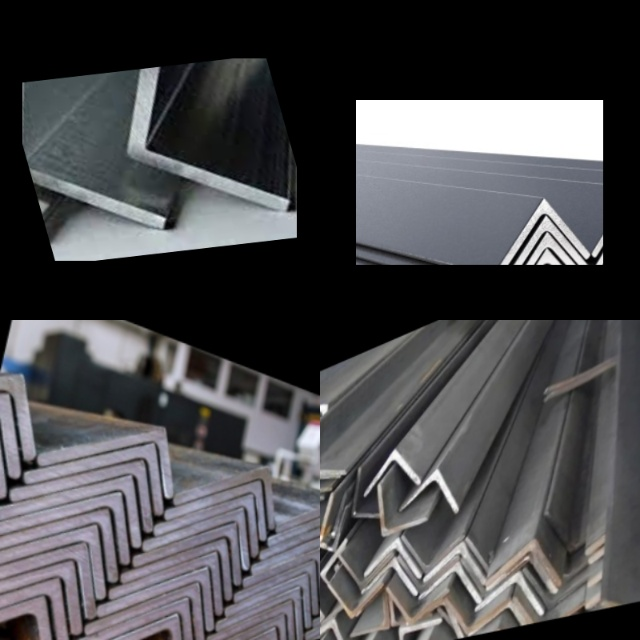Angle: (118, 58, 281, 218), (22, 72, 160, 235), (0, 453, 148, 549), (13, 435, 162, 529), (27, 422, 169, 512), (0, 474, 136, 567), (43, 401, 177, 493), (0, 491, 124, 586), (0, 508, 112, 608), (102, 552, 220, 639), (111, 536, 229, 622), (0, 529, 101, 626), (173, 445, 283, 527), (126, 526, 237, 604), (88, 572, 208, 640), (146, 496, 256, 570), (0, 547, 87, 640), (137, 512, 244, 587), (170, 463, 270, 540), (159, 482, 262, 556), (80, 585, 200, 640), (228, 564, 317, 634), (218, 578, 309, 640), (237, 553, 320, 618), (498, 206, 586, 265), (0, 569, 72, 640), (66, 599, 190, 640), (486, 536, 563, 600), (244, 540, 320, 603), (522, 553, 602, 611), (210, 592, 300, 640), (254, 527, 320, 590), (543, 498, 611, 559), (487, 549, 558, 605), (475, 571, 544, 627), (500, 224, 588, 265), (262, 515, 320, 577), (0, 378, 45, 457), (398, 468, 459, 525), (424, 541, 487, 594), (419, 560, 481, 613), (202, 604, 293, 640), (377, 472, 428, 536), (364, 536, 424, 590), (386, 574, 448, 626), (268, 501, 320, 562), (445, 586, 508, 636), (0, 590, 60, 640), (513, 586, 584, 627), (398, 545, 457, 594), (327, 571, 381, 622), (338, 542, 392, 592), (367, 449, 421, 497), (361, 559, 415, 606), (190, 615, 285, 640), (281, 489, 320, 548), (502, 240, 589, 265), (604, 551, 640, 609), (320, 414, 347, 482), (0, 402, 26, 468), (352, 466, 380, 523), (352, 595, 387, 635), (320, 439, 331, 496)
